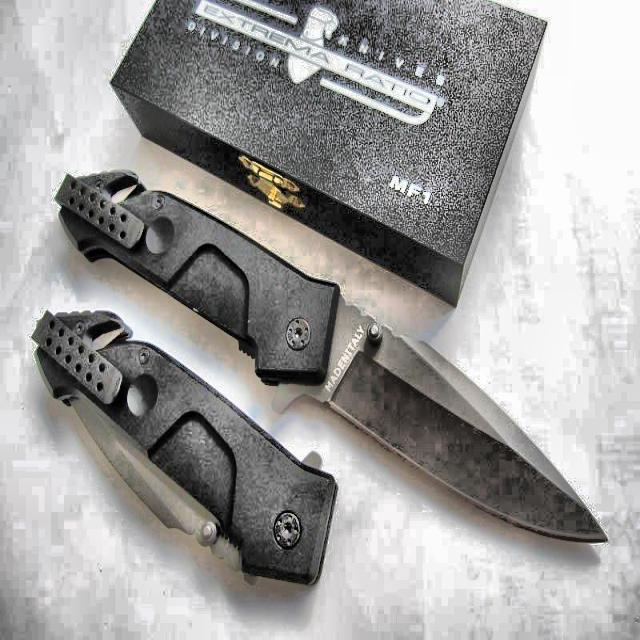knife: (59, 172, 608, 540), (34, 315, 334, 583)
